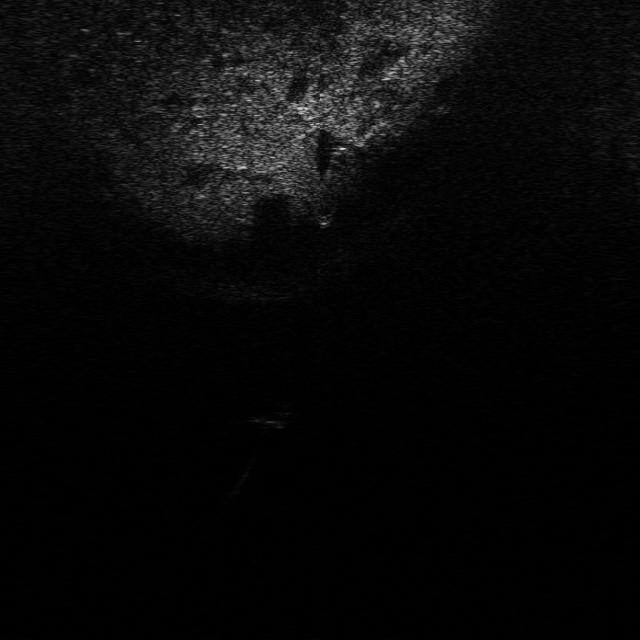ball: (307, 188, 341, 227)
cube: (242, 397, 302, 429)
